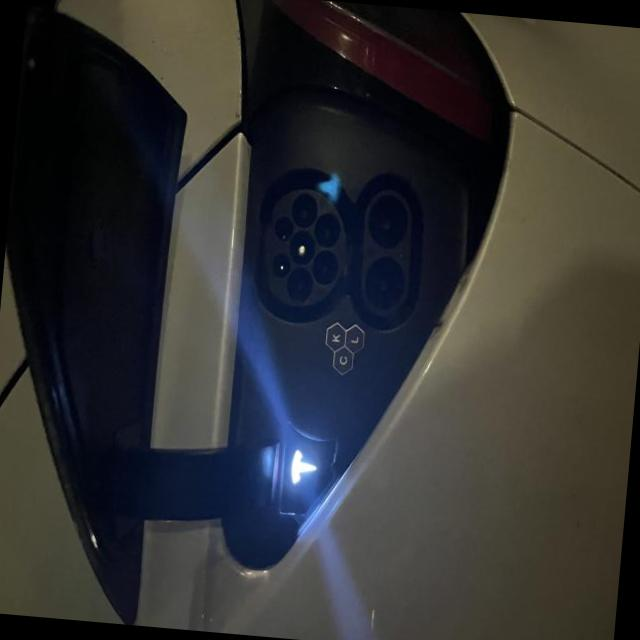inlet: (268, 187, 345, 305)
inlet-above-left: (273, 252, 290, 277)
inlet-above-right: (274, 215, 292, 240)
inlet-below-left: (311, 249, 338, 283)
inlet-below-right: (314, 212, 340, 247)
inlet-center: (289, 229, 315, 263)
inlet-center-left: (285, 265, 312, 300)
inlet-center-right: (291, 191, 317, 226)
